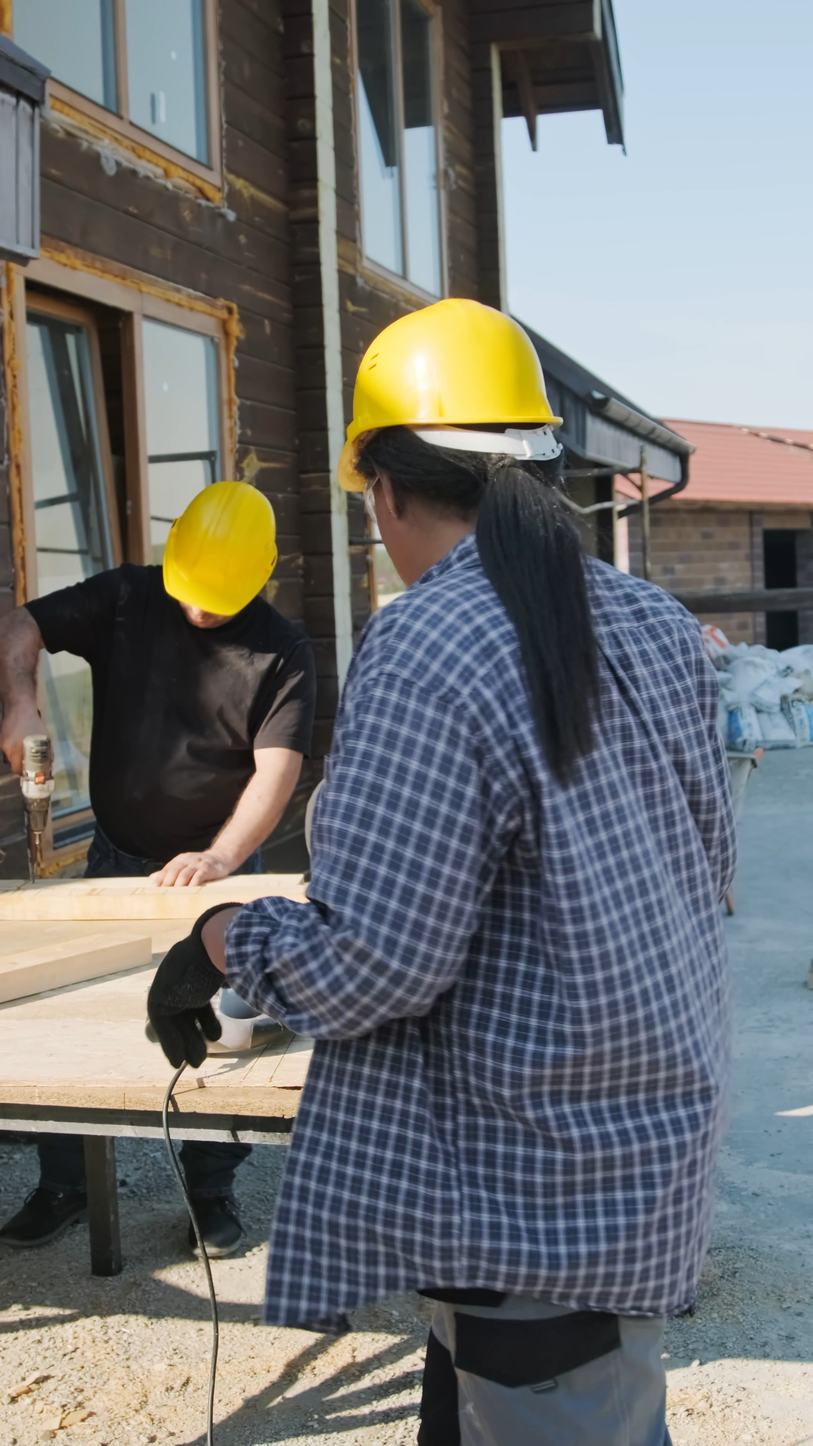No-gloves: (147, 832, 239, 908), (0, 691, 73, 778)
gloves: (145, 938, 235, 1075)
